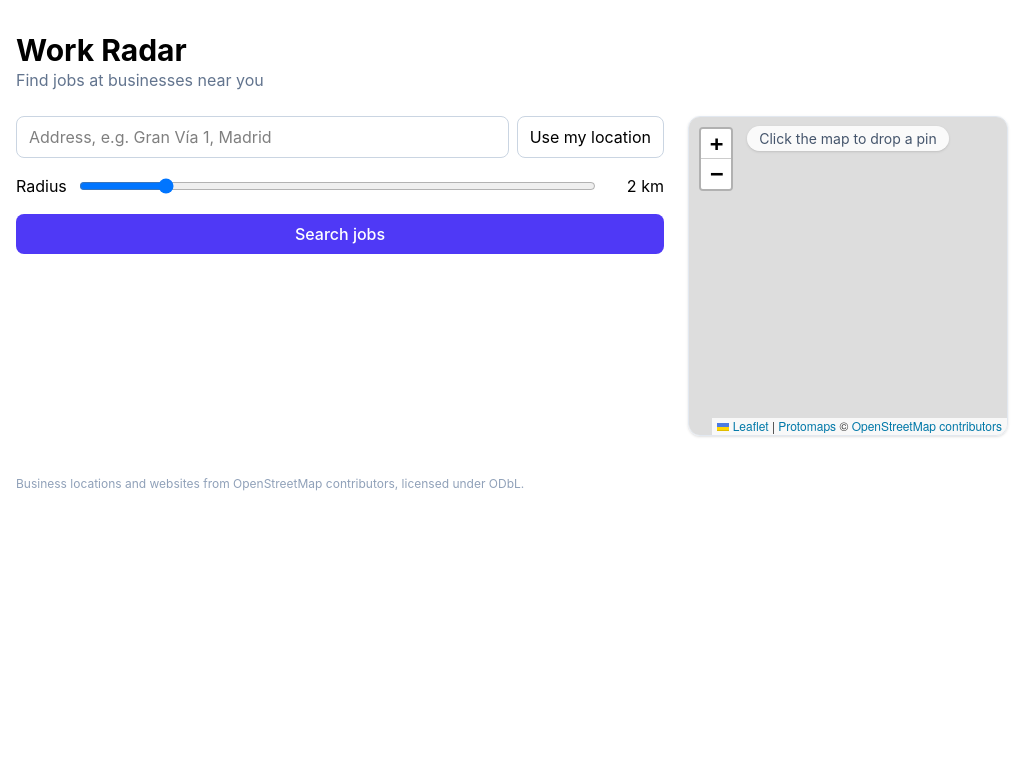
searching lists the business and pins it on the map
The width and height of the screenshot is (1024, 768).
In the dropdown with placeholder "Address, e.g. Gran Vía 1, Madrid": (262, 137) left=16, top=116, right=509, bottom=158, type "Écublens"
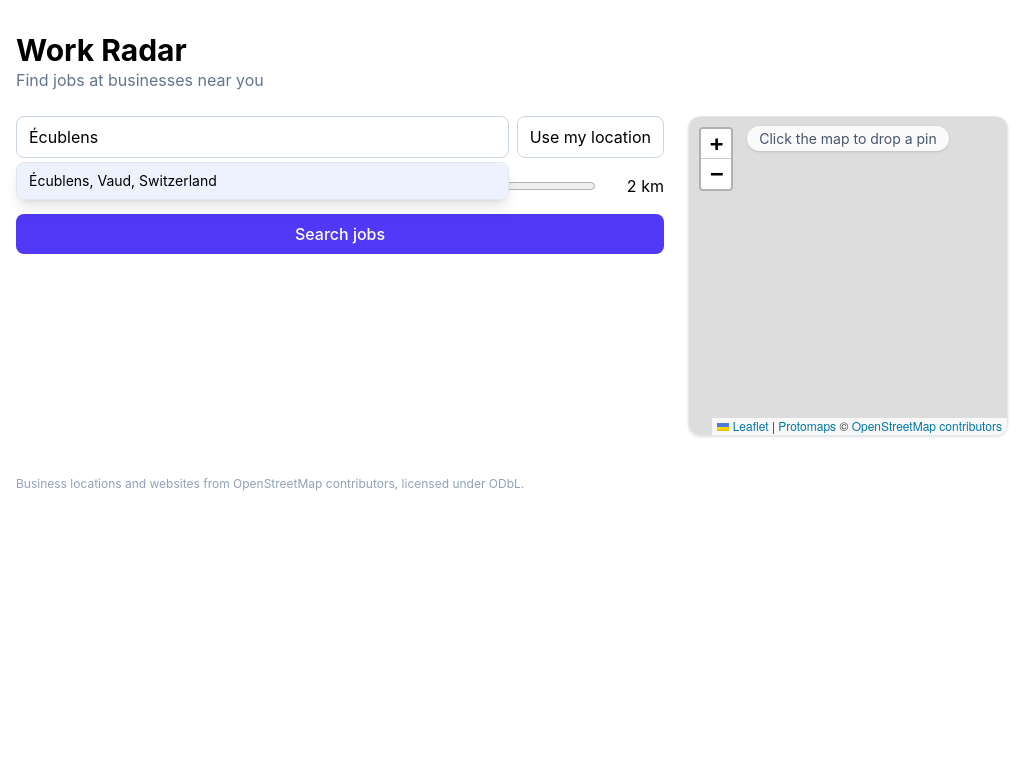
Press the mouse on the button "Écublens, Vaud, Switzerland": (123, 180) left=17, top=163, right=508, bottom=199
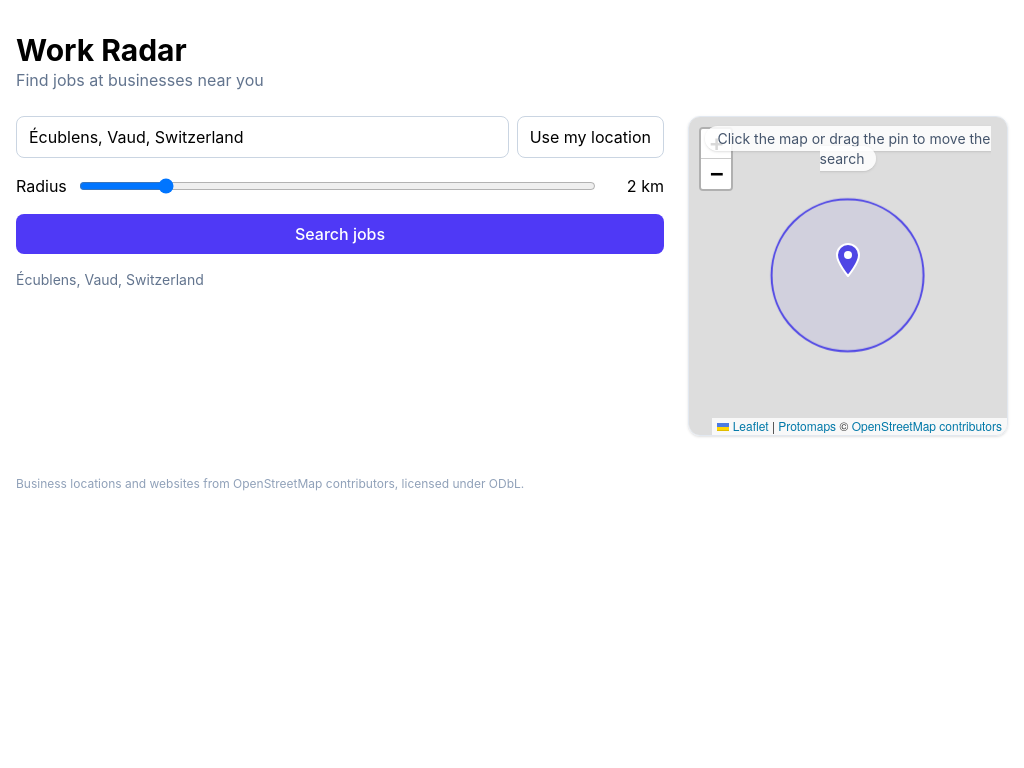
Click the button "Search jobs": click(340, 234) left=16, top=214, right=664, bottom=254
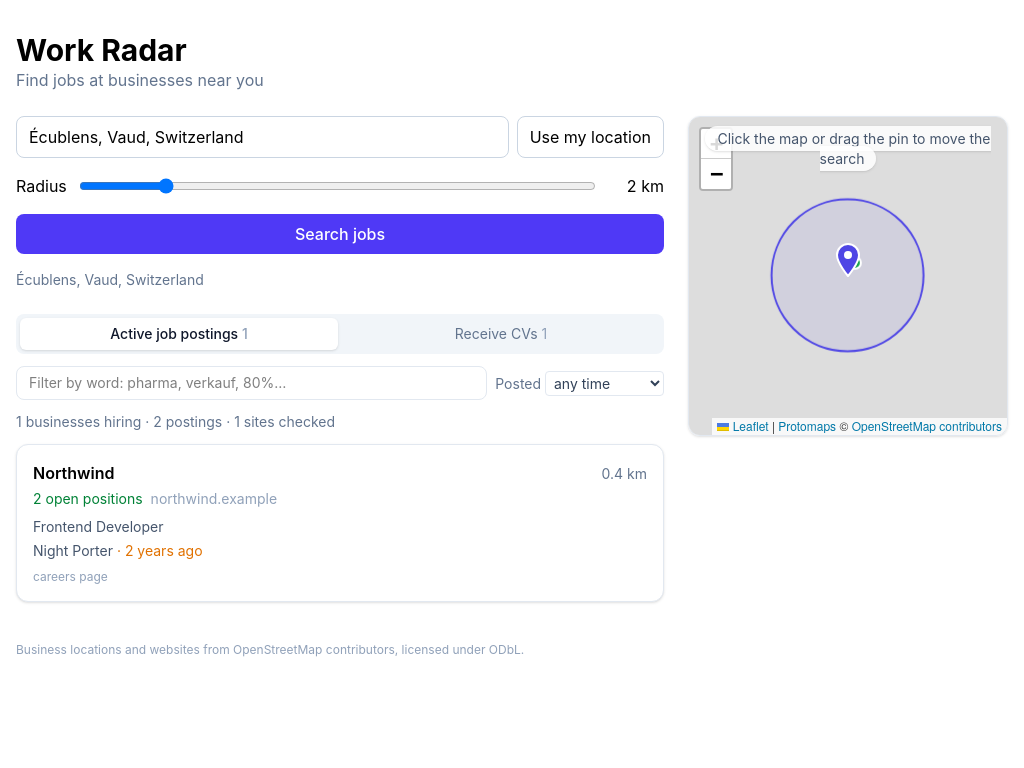
Expected: the heading "Northwind" is shown, left=33, top=461, right=114, bottom=485
